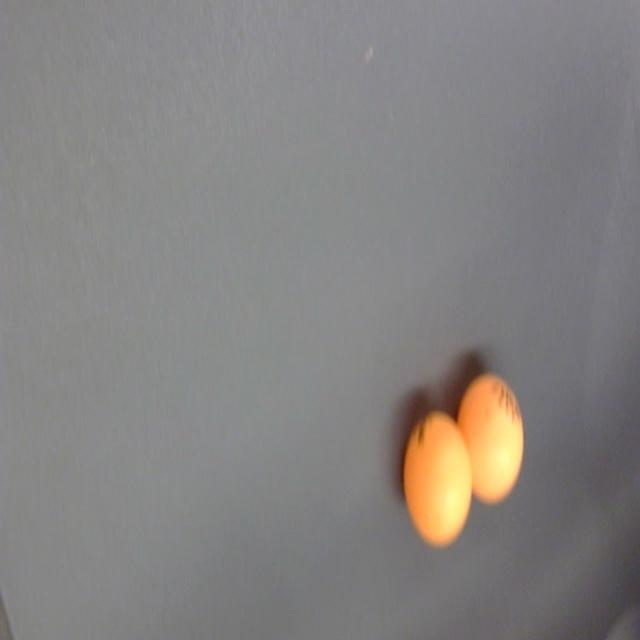ball: (453, 373, 527, 505), (402, 413, 474, 546)
